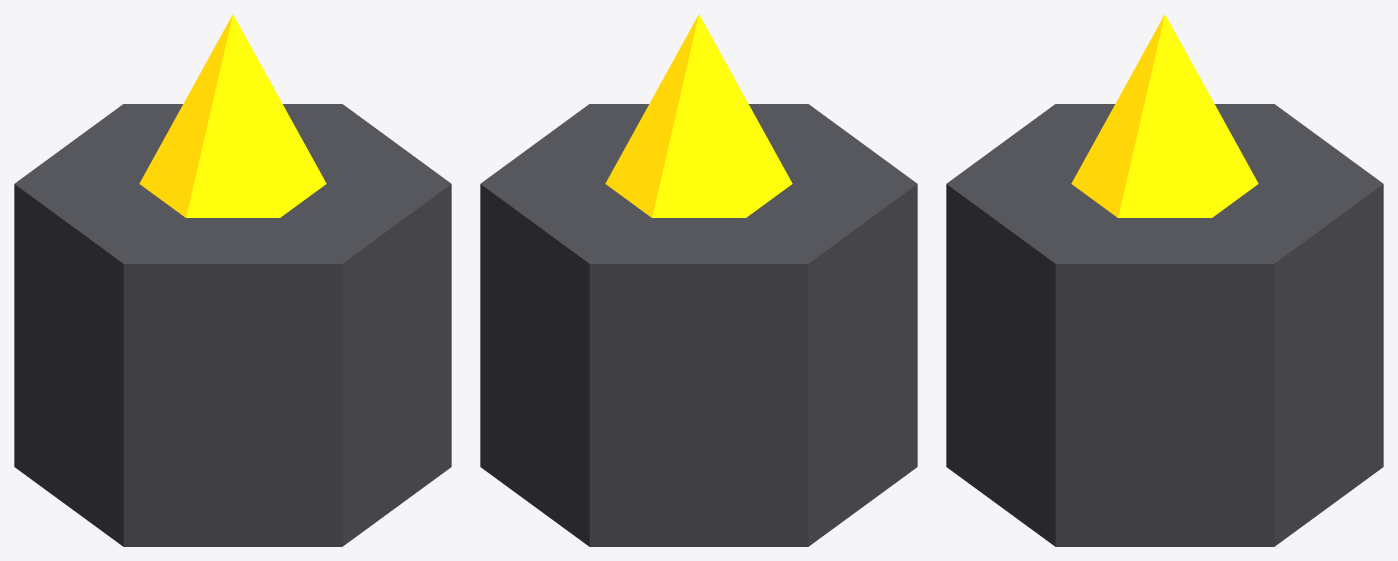
Rendered from tower_flame_lod1.glb.
3 renders of one model, left to right at view 1: azimuth 30°, elevation 25°; view 2: azimuth 150°, elevation 25°; view 3: azimuth 270°, elevation 25°, orthographic.
Parts seen in each view (by area): view 1: tower_flame_lod1; view 2: tower_flame_lod1; view 3: tower_flame_lod1.
Boxes of the visible parts, x1,y1,x2,y2 form: tower_flame_lod1: (14,14,451,546); tower_flame_lod1: (480,14,917,546); tower_flame_lod1: (946,14,1383,546).
Bounding box in the file's own units: 0.6062 × 0.8 × 0.7.
